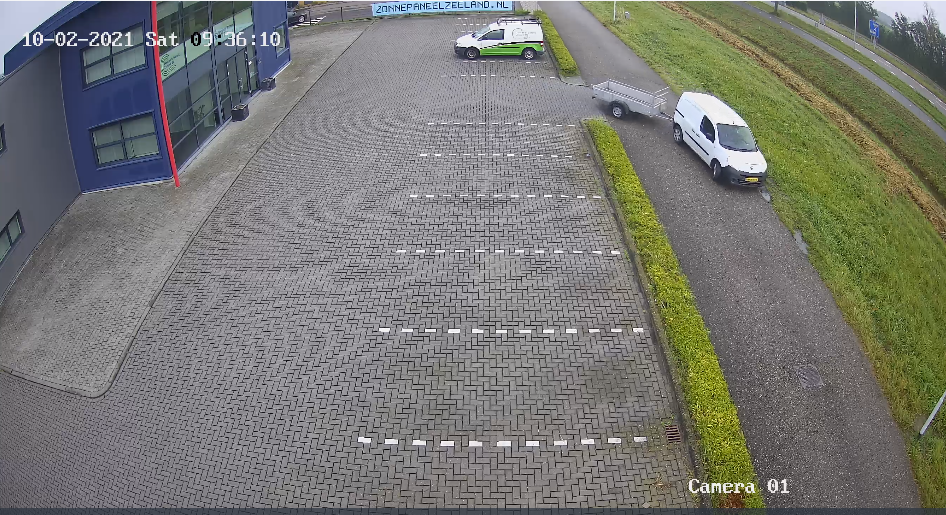werkbus: (669, 88, 776, 201), (451, 14, 549, 64)
